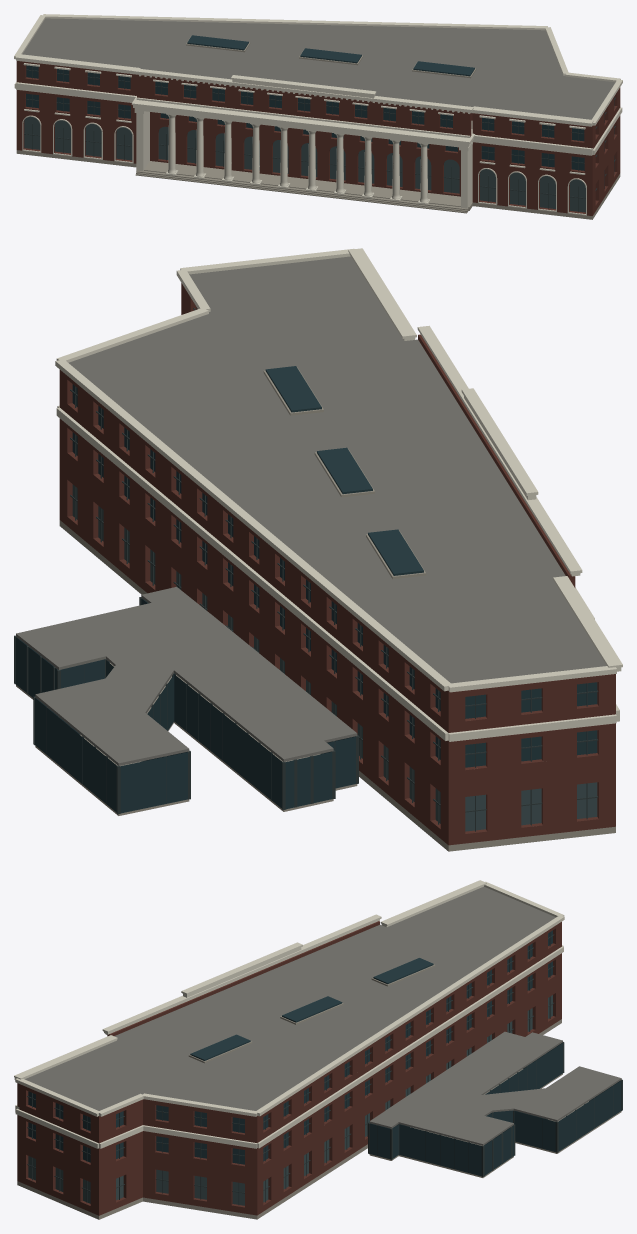
File: waterfront-station-vancouver-near.glb
The picture shows the model from 3 angles, top to bottom: view 1: azimuth 30°, elevation 25°; view 2: azimuth 150°, elevation 25°; view 3: azimuth 270°, elevation 25°; orthographic projection. The views are drawn at different scales.
Visible parts, largest first — view 1: waterfront-station-vancouver-0-roof, waterfront-station-vancouver-0-brick, waterfront-station-vancouver-0-stone, waterfront-station-vancouver-0-glow, waterfront-station-vancouver-0-glass, waterfront-station-vancouver-0-base, waterfront-station-vancouver-0-metal; view 2: waterfront-station-vancouver-0-roof, waterfront-station-vancouver-0-brick, waterfront-station-vancouver-0-glass, waterfront-station-vancouver-0-stone, waterfront-station-vancouver-0-metal, waterfront-station-vancouver-0-base, waterfront-station-vancouver-0-glow; view 3: waterfront-station-vancouver-0-roof, waterfront-station-vancouver-0-brick, waterfront-station-vancouver-0-glass, waterfront-station-vancouver-0-stone, waterfront-station-vancouver-0-metal, waterfront-station-vancouver-0-base, waterfront-station-vancouver-0-glow.
Part boxes in pixels (box(x1,y1,x2,y2)): waterfront-station-vancouver-0-roof: box(22, 18, 615, 119); waterfront-station-vancouver-0-brick: box(16, 61, 620, 215); waterfront-station-vancouver-0-stone: box(14, 14, 622, 215); waterfront-station-vancouver-0-glow: box(24, 116, 585, 212); waterfront-station-vancouver-0-glass: box(26, 35, 584, 170); waterfront-station-vancouver-0-base: box(16, 36, 620, 219); waterfront-station-vancouver-0-metal: box(24, 66, 615, 212); waterfront-station-vancouver-0-roof: box(16, 256, 606, 765); waterfront-station-vancouver-0-brick: box(59, 283, 615, 845); waterfront-station-vancouver-0-glass: box(15, 366, 597, 813); waterfront-station-vancouver-0-stone: box(55, 248, 622, 741); waterfront-station-vancouver-0-metal: box(14, 307, 598, 831); waterfront-station-vancouver-0-base: box(16, 367, 615, 851); waterfront-station-vancouver-0-glow: box(72, 484, 597, 831); waterfront-station-vancouver-0-roof: box(25, 886, 621, 1145); waterfront-station-vancouver-0-brick: box(17, 921, 561, 1215); waterfront-station-vancouver-0-glass: box(28, 930, 621, 1176); waterfront-station-vancouver-0-stone: box(14, 880, 564, 1148); waterfront-station-vancouver-0-metal: box(27, 932, 622, 1205); waterfront-station-vancouver-0-base: box(17, 964, 621, 1219); waterfront-station-vancouver-0-glow: box(28, 995, 552, 1205).
Bounding box in the file's own units: 98.28 × 23 × 109.
